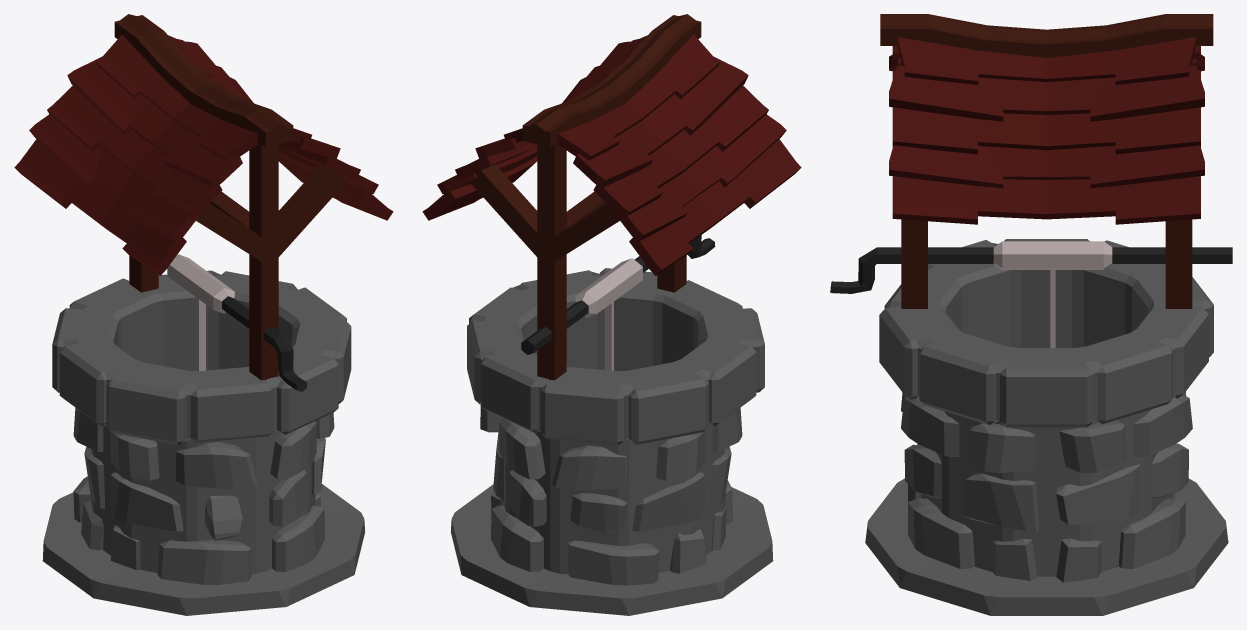
The model's file is WellFix.fbx.
The picture shows the model from 3 angles, left to right: view 1: azimuth 30°, elevation 25°; view 2: azimuth 150°, elevation 25°; view 3: azimuth 270°, elevation 25°; orthographic projection. The views are drawn at different scales.
Parts seen in each view (by area): view 1: Well; view 2: Well; view 3: Well.
Part boxes in pixels (x1=…): Well: x1=14, y1=14, x2=393, y2=615; Well: x1=422, y1=14, x2=801, y2=615; Well: x1=830, y1=14, x2=1232, y2=615.
Size of the model in its own units: 3.06 by 5.15 by 3.57.
